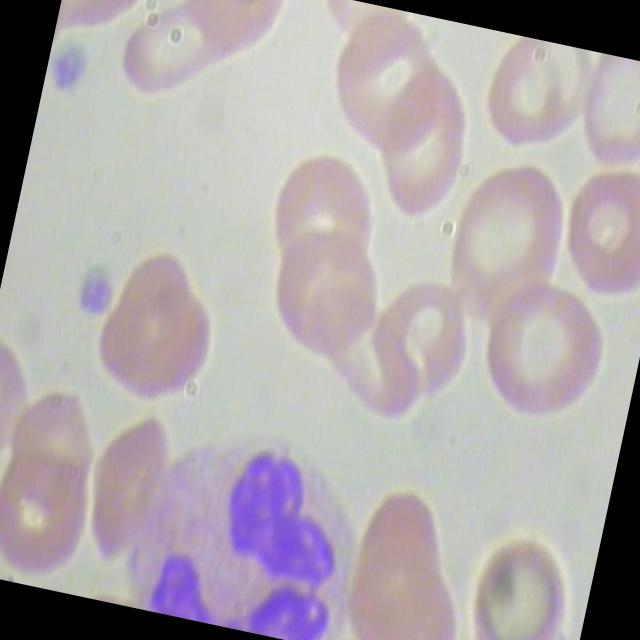Platelets: (64, 250, 126, 324), (40, 33, 100, 107)
RBC: (467, 273, 622, 441), (245, 221, 392, 385), (77, 269, 229, 410), (360, 59, 482, 232), (74, 406, 176, 581), (451, 521, 598, 640), (536, 160, 640, 310), (0, 446, 96, 588)
WBC: (118, 406, 397, 640)
